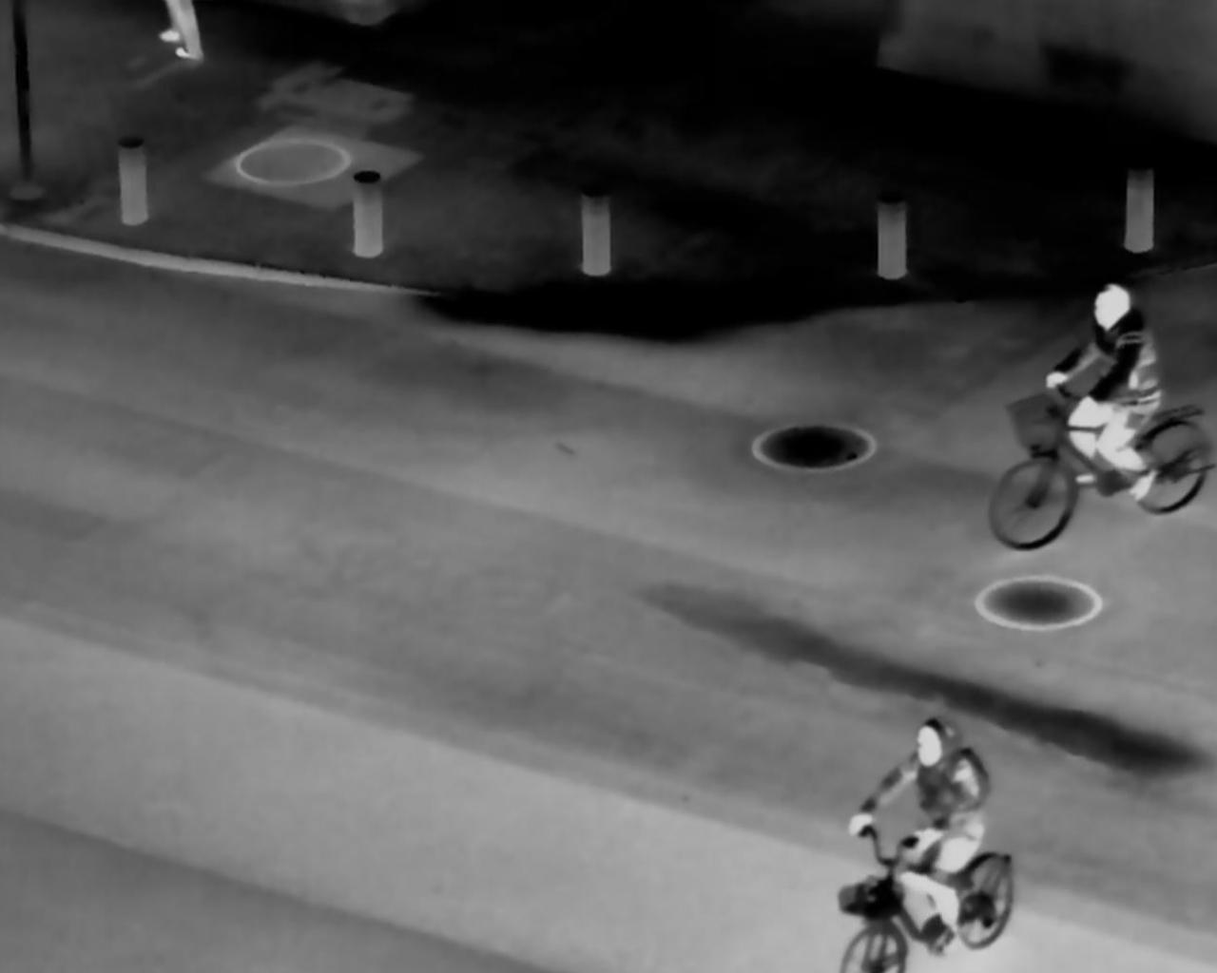person: (849, 707, 1002, 950), (1038, 268, 1161, 509)
